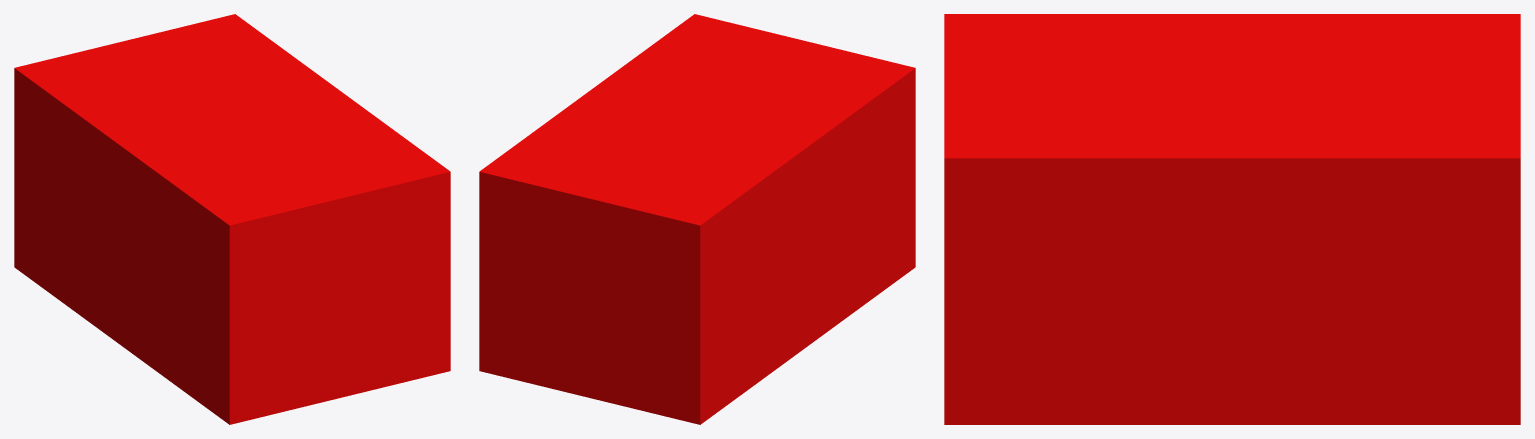
File: little_proximal_rvs_col.dae
The picture shows the model from 3 angles, left to right: view 1: azimuth 30°, elevation 25°; view 2: azimuth 150°, elevation 25°; view 3: azimuth 270°, elevation 25°; orthographic projection. The views are drawn at different scales.
Parts seen in each view (by area): view 1: node0; view 2: node0; view 3: node0.
Part boxes in pixels (x1,y1,x2,y2): node0: [14, 14, 450, 424]; node0: [479, 14, 915, 424]; node0: [944, 14, 1520, 424].
Bounding box in the file's own units: 0.0217 × 0.0187 × 0.0366.
